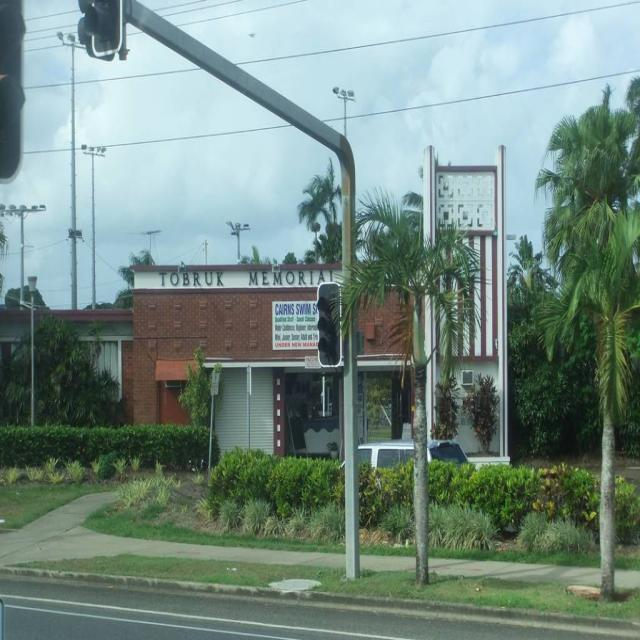traffic light: (316, 286, 342, 368)
